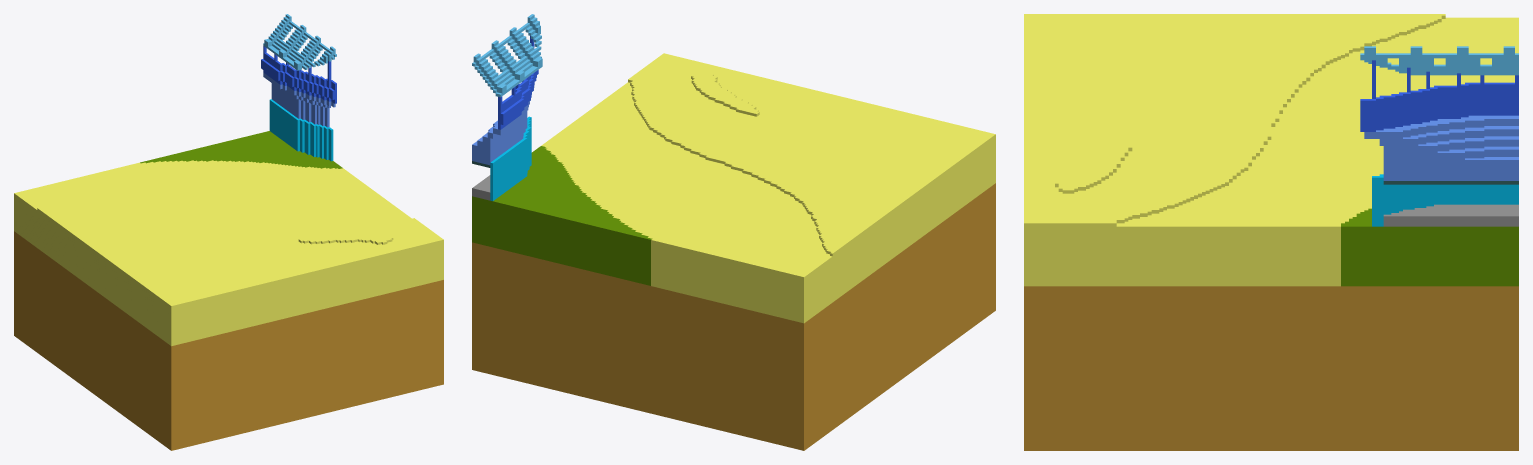
3 renders of one model, left to right at view 1: azimuth 30°, elevation 25°; view 2: azimuth 150°, elevation 25°; view 3: azimuth 270°, elevation 25°, orthographic. The views are drawn at different scales.
Visible parts, largest first — view 1: 4L-3; view 2: 4L-3; view 3: 4L-3.
Part boxes in pixels (x1=…): 4L-3: x1=14, y1=14, x2=443, y2=450; 4L-3: x1=472, y1=14, x2=995, y2=450; 4L-3: x1=1024, y1=14, x2=1518, y2=450.
Bounding box in the file's own units: 12.8 × 11.5 × 12.8.
1 material, 1 textured.
